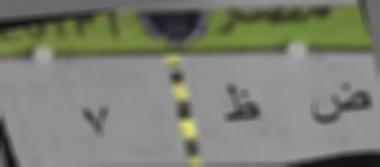7: (78, 98, 116, 138)
Thaa: (224, 80, 265, 128)
daad: (306, 78, 372, 134)
